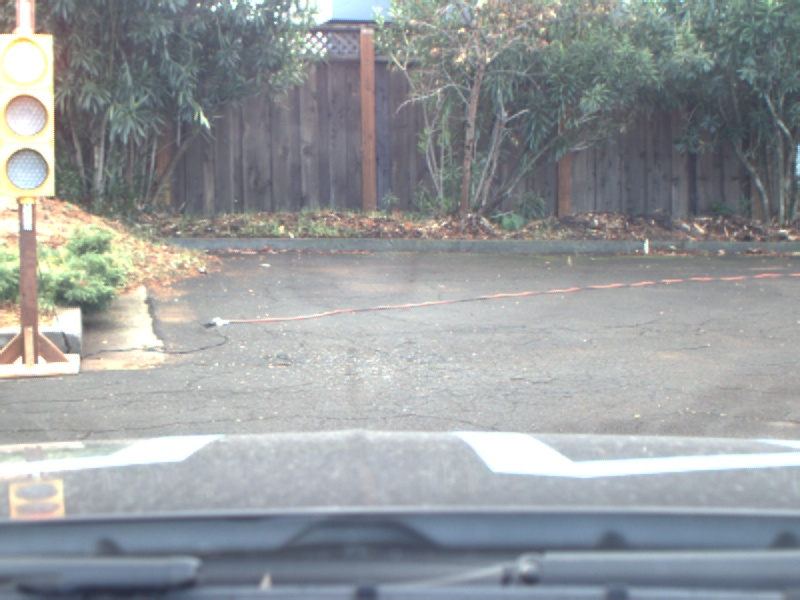Red: (1, 36, 55, 197)
